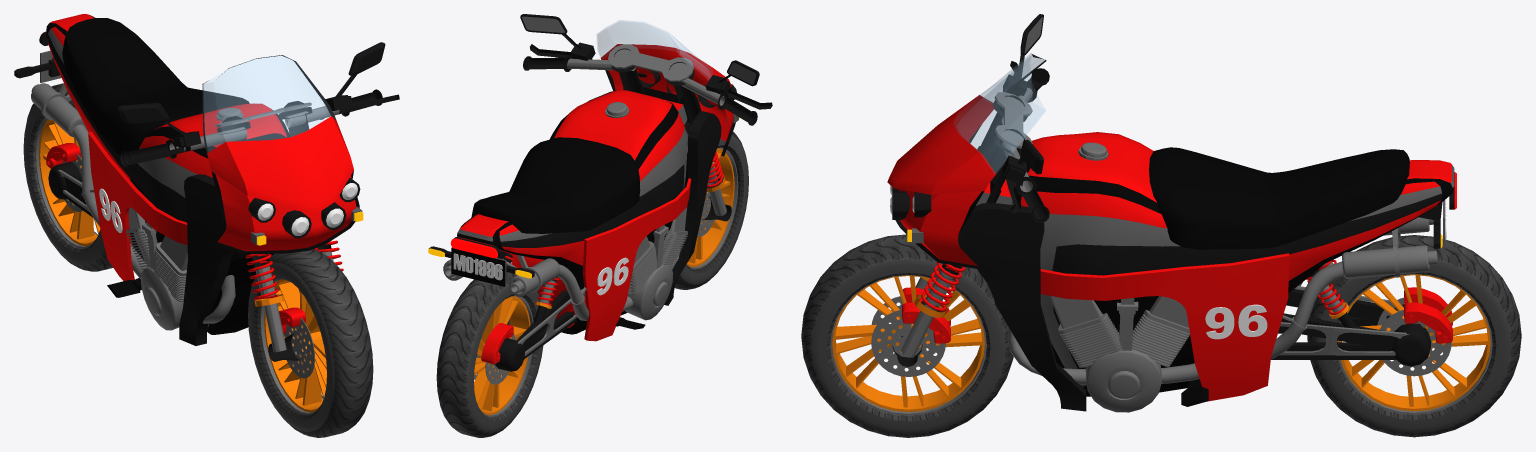
File: moto_virtual_av5.glb
The picture shows the model from 3 angles, left to right: view 1: azimuth 30°, elevation 25°; view 2: azimuth 150°, elevation 25°; view 3: azimuth 270°, elevation 25°; orthographic projection. The views are drawn at different scales.
Parts seen in each view (by area): view 1: Object_19, Object_8, Object_4, Object_16, Object_6, Object_20, Object_12, Object_15, Object_13, Object_17, Object_10, Object_2 (+3 smaller); view 2: Object_19, Object_8, Object_4, Object_16, Object_15, Object_12, Object_20, Object_6, Object_17, Object_11, Object_13, Object_5 (+4 smaller); view 3: Object_19, Object_8, Object_16, Object_4, Object_20, Object_12, Object_15, Object_17, Object_6, Object_13, Object_14, Object_11 (+2 smaller).
Part boxes in pixels (x1,y1,x2,y2): Object_19: (48,14,356,281); Object_8: (14,31,399,361); Object_4: (46,15,350,334); Object_16: (23,83,373,437); Object_6: (203,55,335,152); Object_20: (39,119,326,412); Object_12: (31,83,299,330); Object_15: (126,102,340,352); Object_13: (260,278,323,414); Object_17: (40,29,362,326); Object_10: (245,240,343,333); Object_2: (257,183,357,235); Object_19: (457,44,733,341); Object_8: (429,14,772,371); Object_4: (460,101,728,334); Object_16: (436,131,748,437); Object_15: (522,16,756,294); Object_12: (443,225,680,355); Object_20: (474,148,734,415); Object_6: (597,20,713,79); Object_17: (451,104,738,286); Object_11: (481,256,559,364); Object_13: (686,147,738,269); Object_5: (451,248,505,286); Object_19: (887,95,1451,401); Object_8: (890,14,1454,411); Object_16: (801,234,1521,437); Object_4: (916,53,1452,406); Object_20: (832,274,1490,411); Object_12: (1008,217,1437,412); Object_15: (901,17,1190,367); Object_17: (912,165,1454,386); Object_6: (954,53,1045,173); Object_13: (830,275,986,415); Object_14: (1337,273,1492,414); Object_11: (905,259,1452,343).
Bounding box in the file's own units: 1.17 × 1.37 × 2.42.
15 materials, 1 textured.
